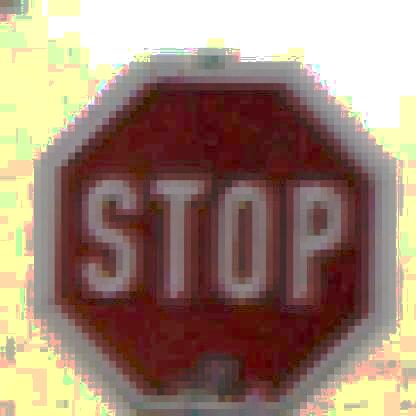Stop Sign: (39, 59, 396, 406)
